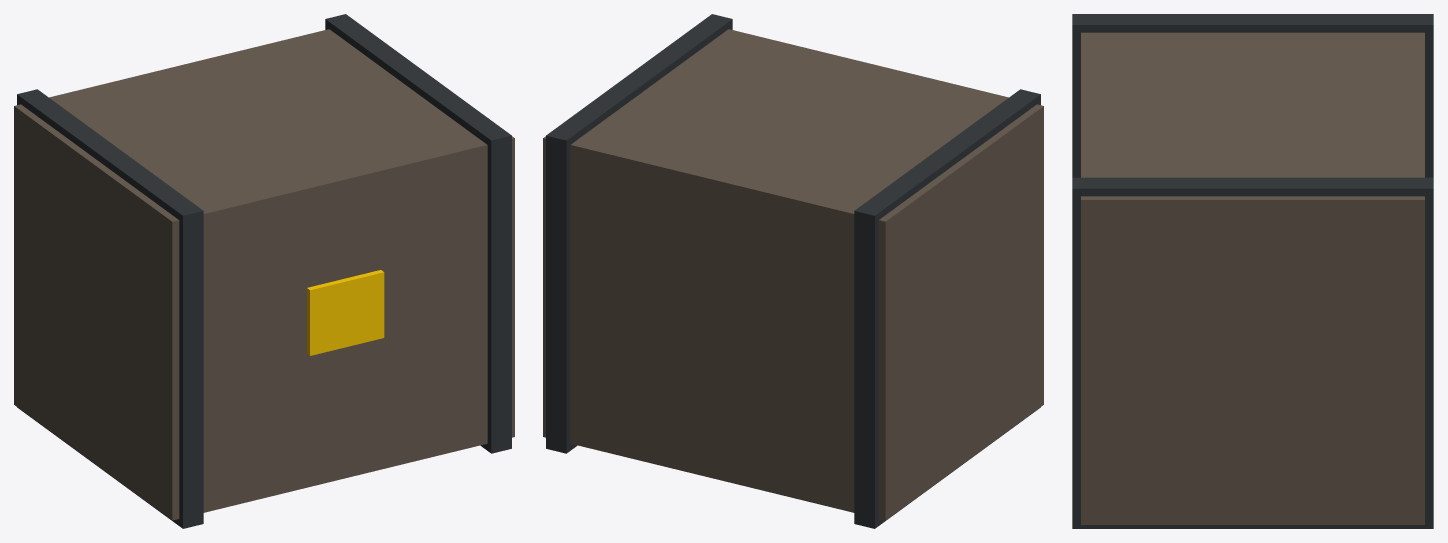
The model's file is SupplyCrate.fbx.
3 views of the same model, side by side, from view 1: azimuth 30°, elevation 25°; view 2: azimuth 150°, elevation 25°; view 3: azimuth 270°, elevation 25° (orthographic). The views are drawn at different scales.
Visible parts, largest first — view 1: Crate_Body, Crate_Strap, Crate_Strap.001, Crate_Patch; view 2: Crate_Body, Crate_Strap, Crate_Strap.001; view 3: Crate_Body, Crate_Strap.001, Crate_Strap.
Boxes of the visible parts, box(x1,y1,x2,y2) form: Crate_Body: box(14, 29, 514, 520); Crate_Strap: box(17, 89, 203, 528); Crate_Strap.001: box(325, 14, 511, 453); Crate_Patch: box(307, 270, 384, 355); Crate_Body: box(543, 29, 1043, 520); Crate_Strap: box(854, 89, 1040, 528); Crate_Strap.001: box(546, 14, 732, 453); Crate_Body: box(1081, 32, 1424, 524); Crate_Strap.001: box(1072, 177, 1433, 528); Crate_Strap: box(1072, 14, 1433, 177).
Bounding box in the file's own units: 300 × 262 × 252.
